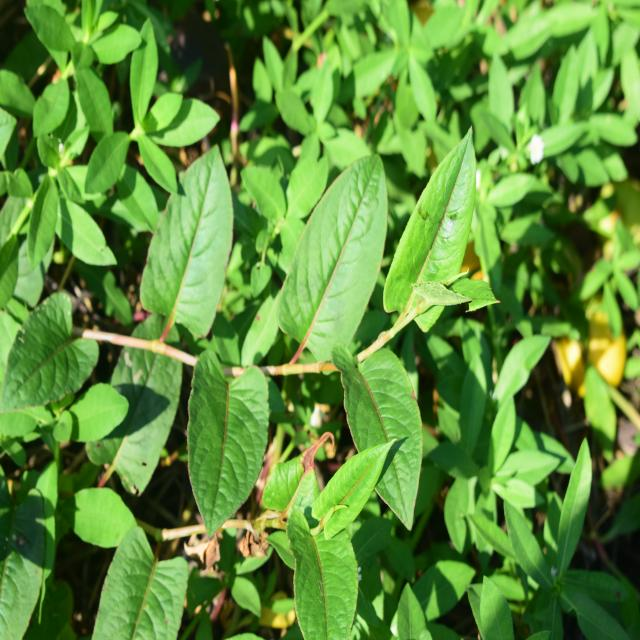Chinese_knotweed: (126, 158, 487, 549)
